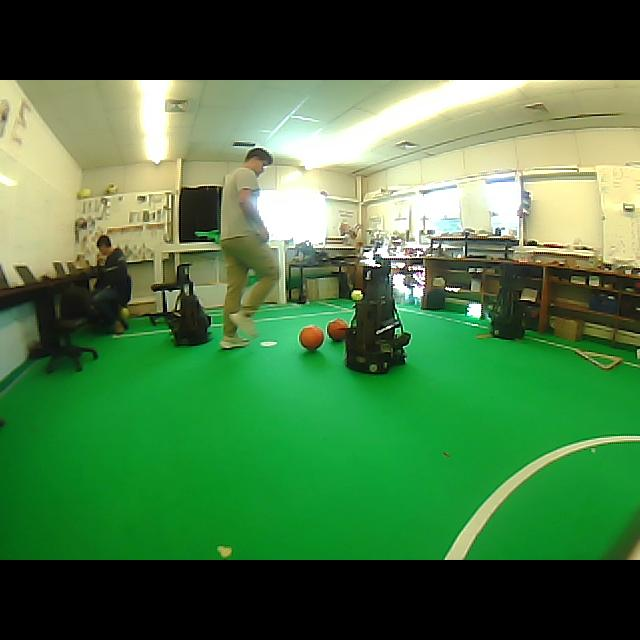ball: (299, 325, 323, 350), (327, 319, 347, 341), (120, 307, 129, 329), (78, 188, 92, 199), (351, 289, 363, 301), (105, 184, 118, 195)
goal: (277, 241, 286, 304)
robot: (345, 268, 410, 373), (168, 264, 209, 345), (491, 264, 525, 339)
